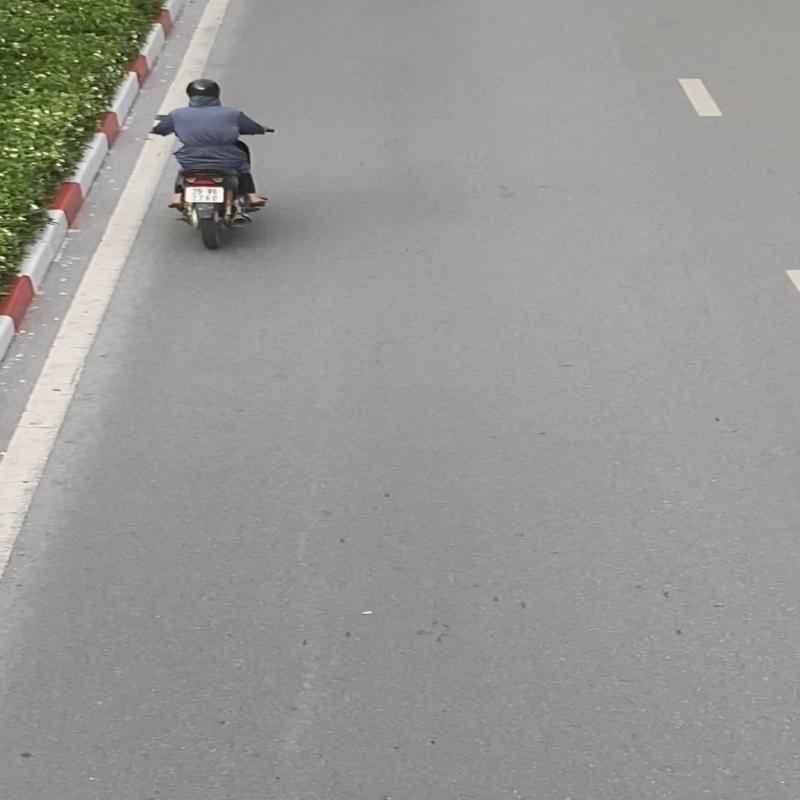helmet: (187, 78, 220, 99)
licenseplate: (184, 186, 224, 202)
motorcyclist: (150, 79, 278, 251)
